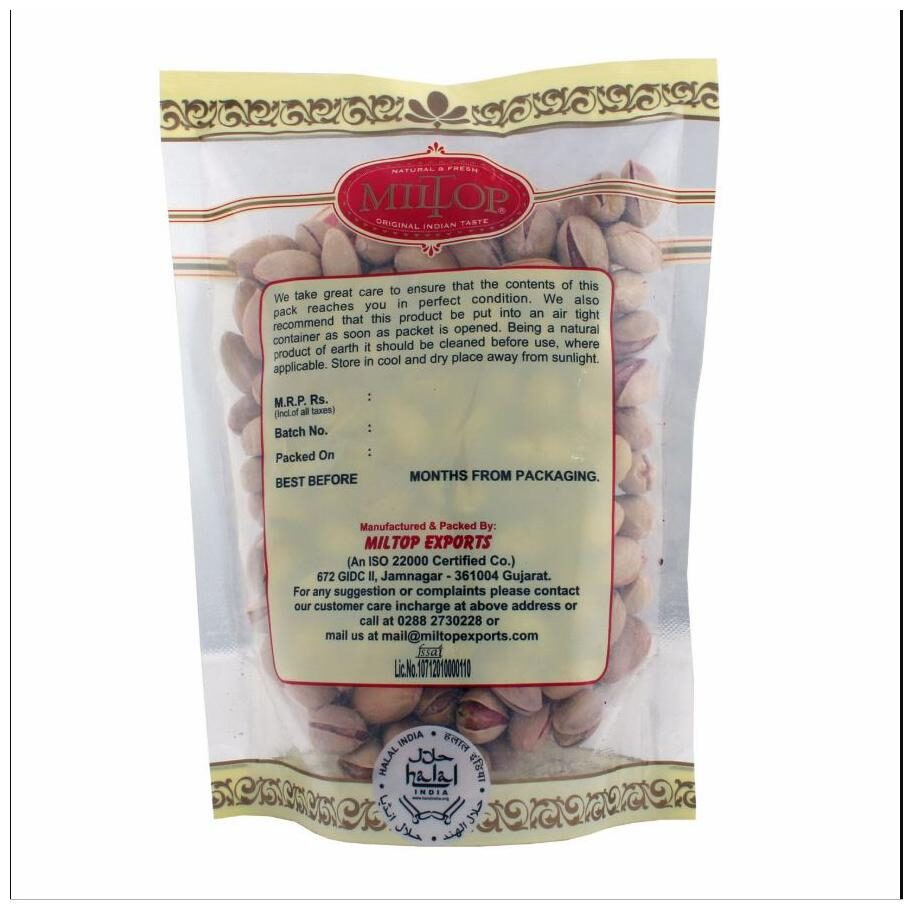fsaai: (415, 643, 445, 658)
